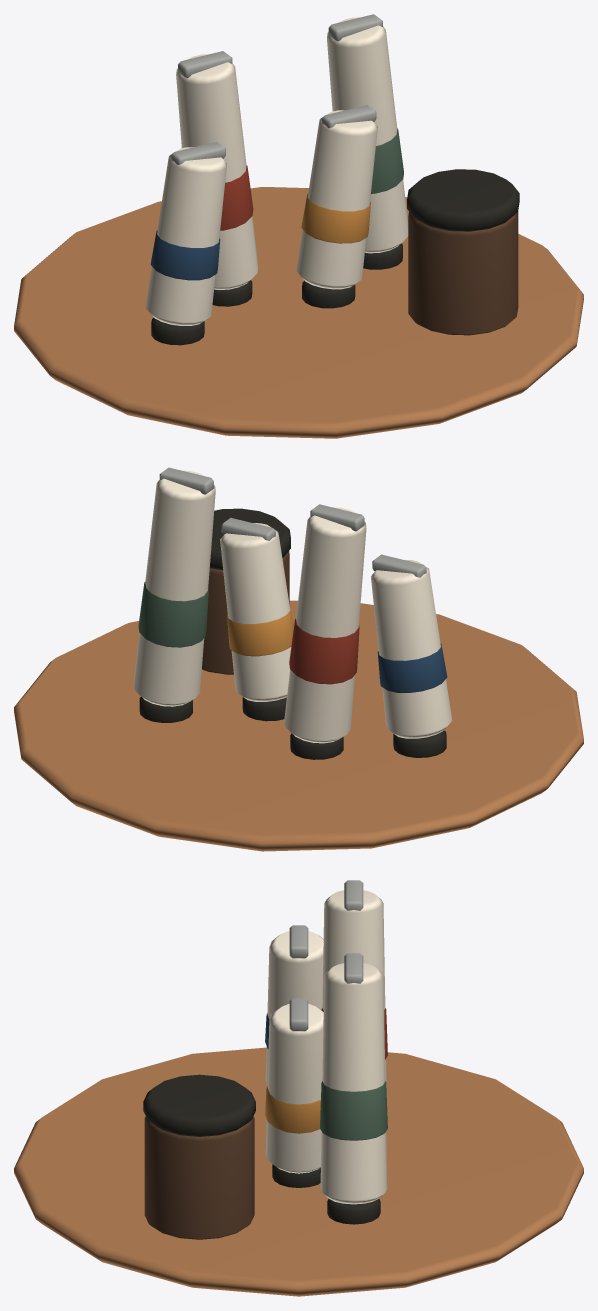
The model's file is paints.glb.
3 views of the same model, one above another, from view 1: azimuth 30°, elevation 25°; view 2: azimuth 150°, elevation 25°; view 3: azimuth 270°, elevation 25° (orthographic).
Visible parts, largest first — view 1: Cone, Cone.013, Cone.008, Cone.002, Cone.005, Cone.011, Cone.014, Cone.009, Cone.003, Cone.006, Cone.012, Cone.007 (+7 smaller); view 2: Cone, Cone.011, Cone.005, Cone.002, Cone.008, Cone.006, Cone.012, Cone.013, Cone.003, Cone.009, Cone.014, Cone.001 (+7 smaller); view 3: Cone, Cone.011, Cone.013, Cone.008, Cone.014, Cone.005, Cone.002, Cone.012, Cone.009, Cone.010, Cone.007, Cube (+3 smaller).
Part boxes in pixels (x1,y1,x2,y2): Cone: (14, 187, 583, 438); Cone.013: (408, 211, 518, 335); Cone.008: (296, 110, 377, 289); Cone.002: (145, 147, 226, 325); Cone.005: (176, 54, 258, 289); Cone.011: (327, 17, 408, 253); Cone.014: (407, 169, 519, 231); Cone.009: (301, 193, 370, 243); Cone.003: (150, 230, 220, 280); Cone.006: (220, 165, 253, 230); Cone.012: (371, 128, 403, 193); Cone.007: (302, 280, 355, 308); Cone: (14, 600, 583, 851); Cone.011: (133, 470, 215, 706); Cone.005: (284, 507, 366, 743); Cone.002: (371, 560, 452, 738); Cone.008: (220, 523, 291, 701); Cone.006: (289, 618, 359, 684); Cone.012: (138, 582, 208, 647); Cone.013: (202, 551, 289, 674); Cone.003: (377, 643, 447, 692); Cone.009: (227, 606, 293, 656); Cone.014: (209, 508, 290, 570); Cone.001: (393, 730, 446, 757); Cone: (14, 1047, 583, 1296); Cone.011: (320, 963, 387, 1204); Cone.013: (144, 1116, 254, 1239); Cone.008: (265, 1004, 323, 1173); Cone.014: (143, 1074, 255, 1136); Cone.005: (322, 890, 386, 1096); Cone.002: (265, 931, 323, 1085); Cone.012: (320, 1081, 387, 1140); Cone.009: (265, 1086, 320, 1133); Cone.010: (327, 1198, 380, 1224); Cone.007: (272, 1164, 320, 1187); Cube: (289, 925, 308, 958).
Bounding box in the file's own units: 2.18 × 1.08 × 2.18.
